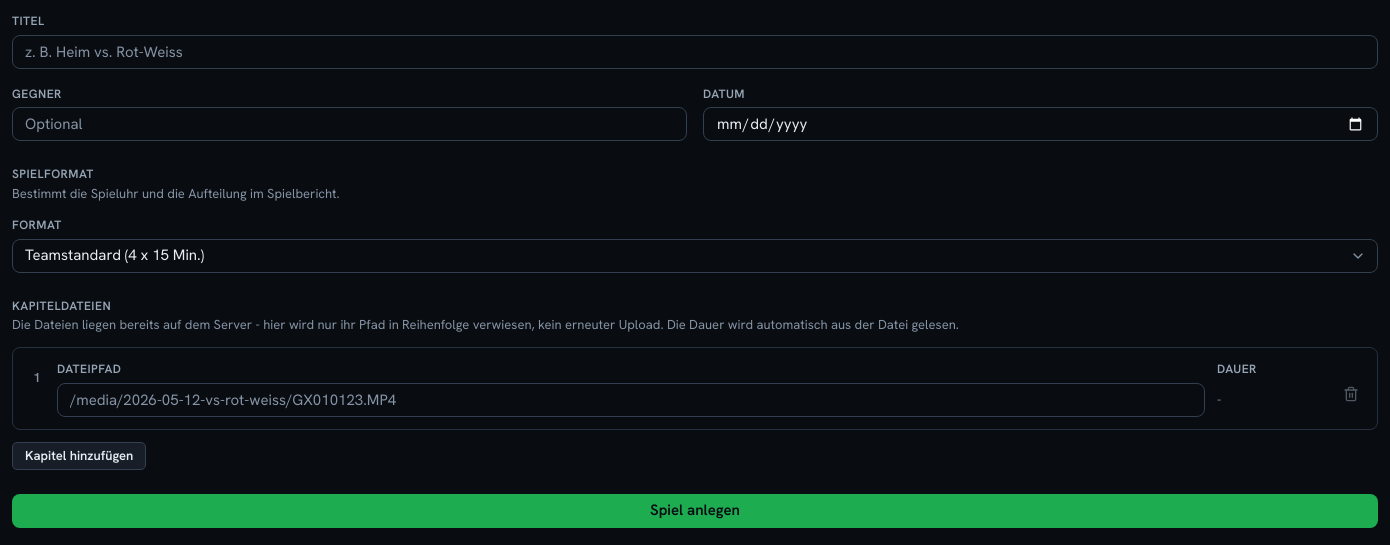
Scenario: GameForm chapter durations › reads only the settled path while the coach is typing
The image size is (1390, 545).
Type "/media/GX01" into the field labelled "Dateipfad" at x=631, y=400, box [57,383,1205,417]
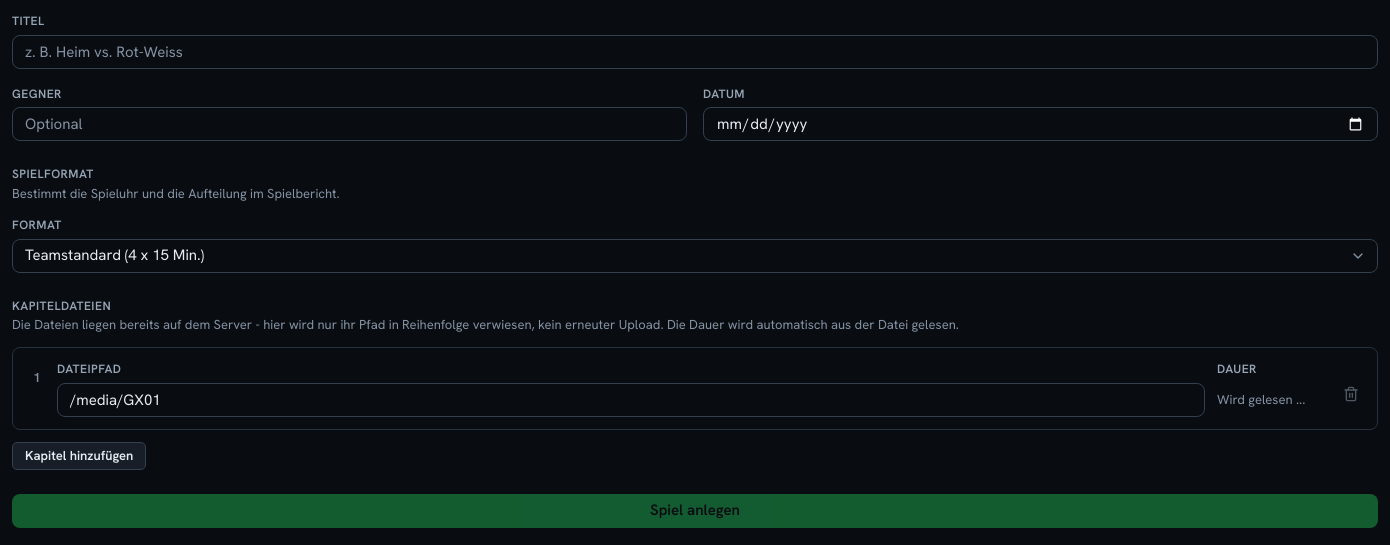
Replace the text in the field labelled "Dateipfad" with "/media/GX010123.MP4" at x=631, y=400, box [57,383,1205,417]
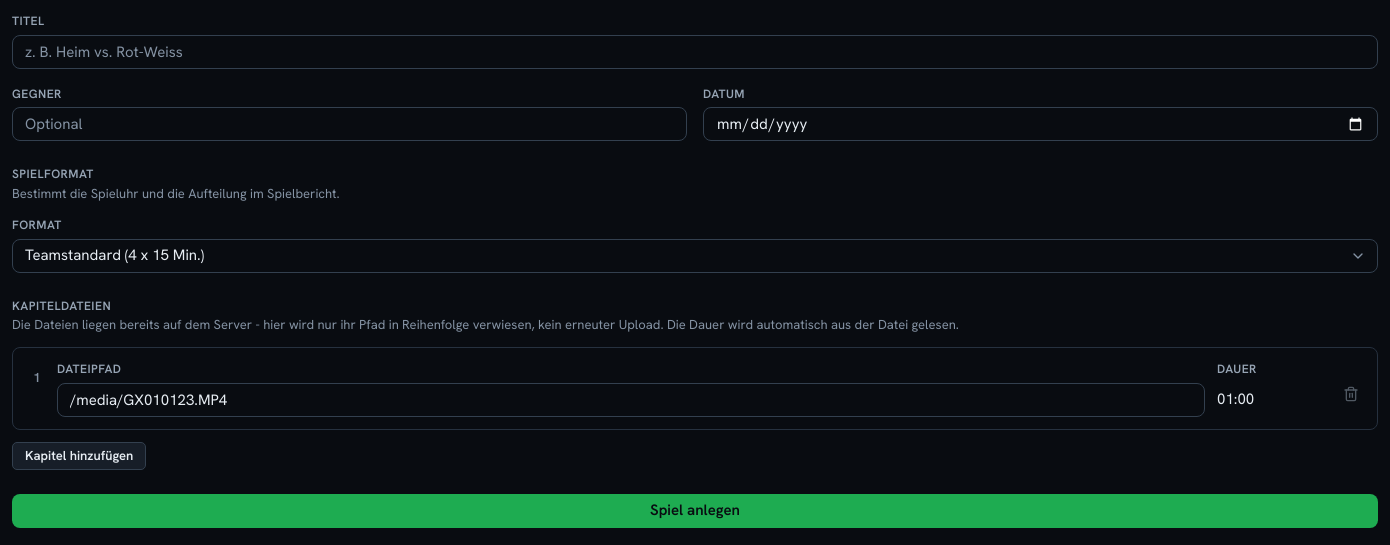
Expected: the text "01:00" is shown, [1217,389,1254,409]
